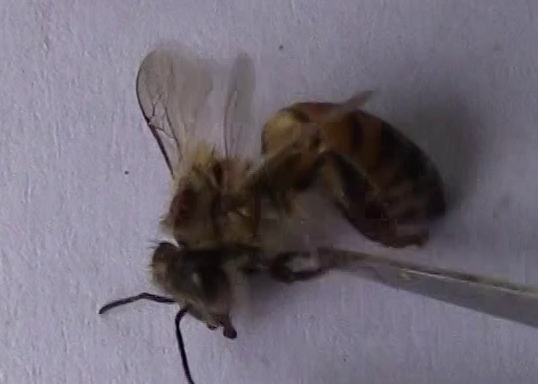Varroa destructor: (166, 187, 198, 230)
